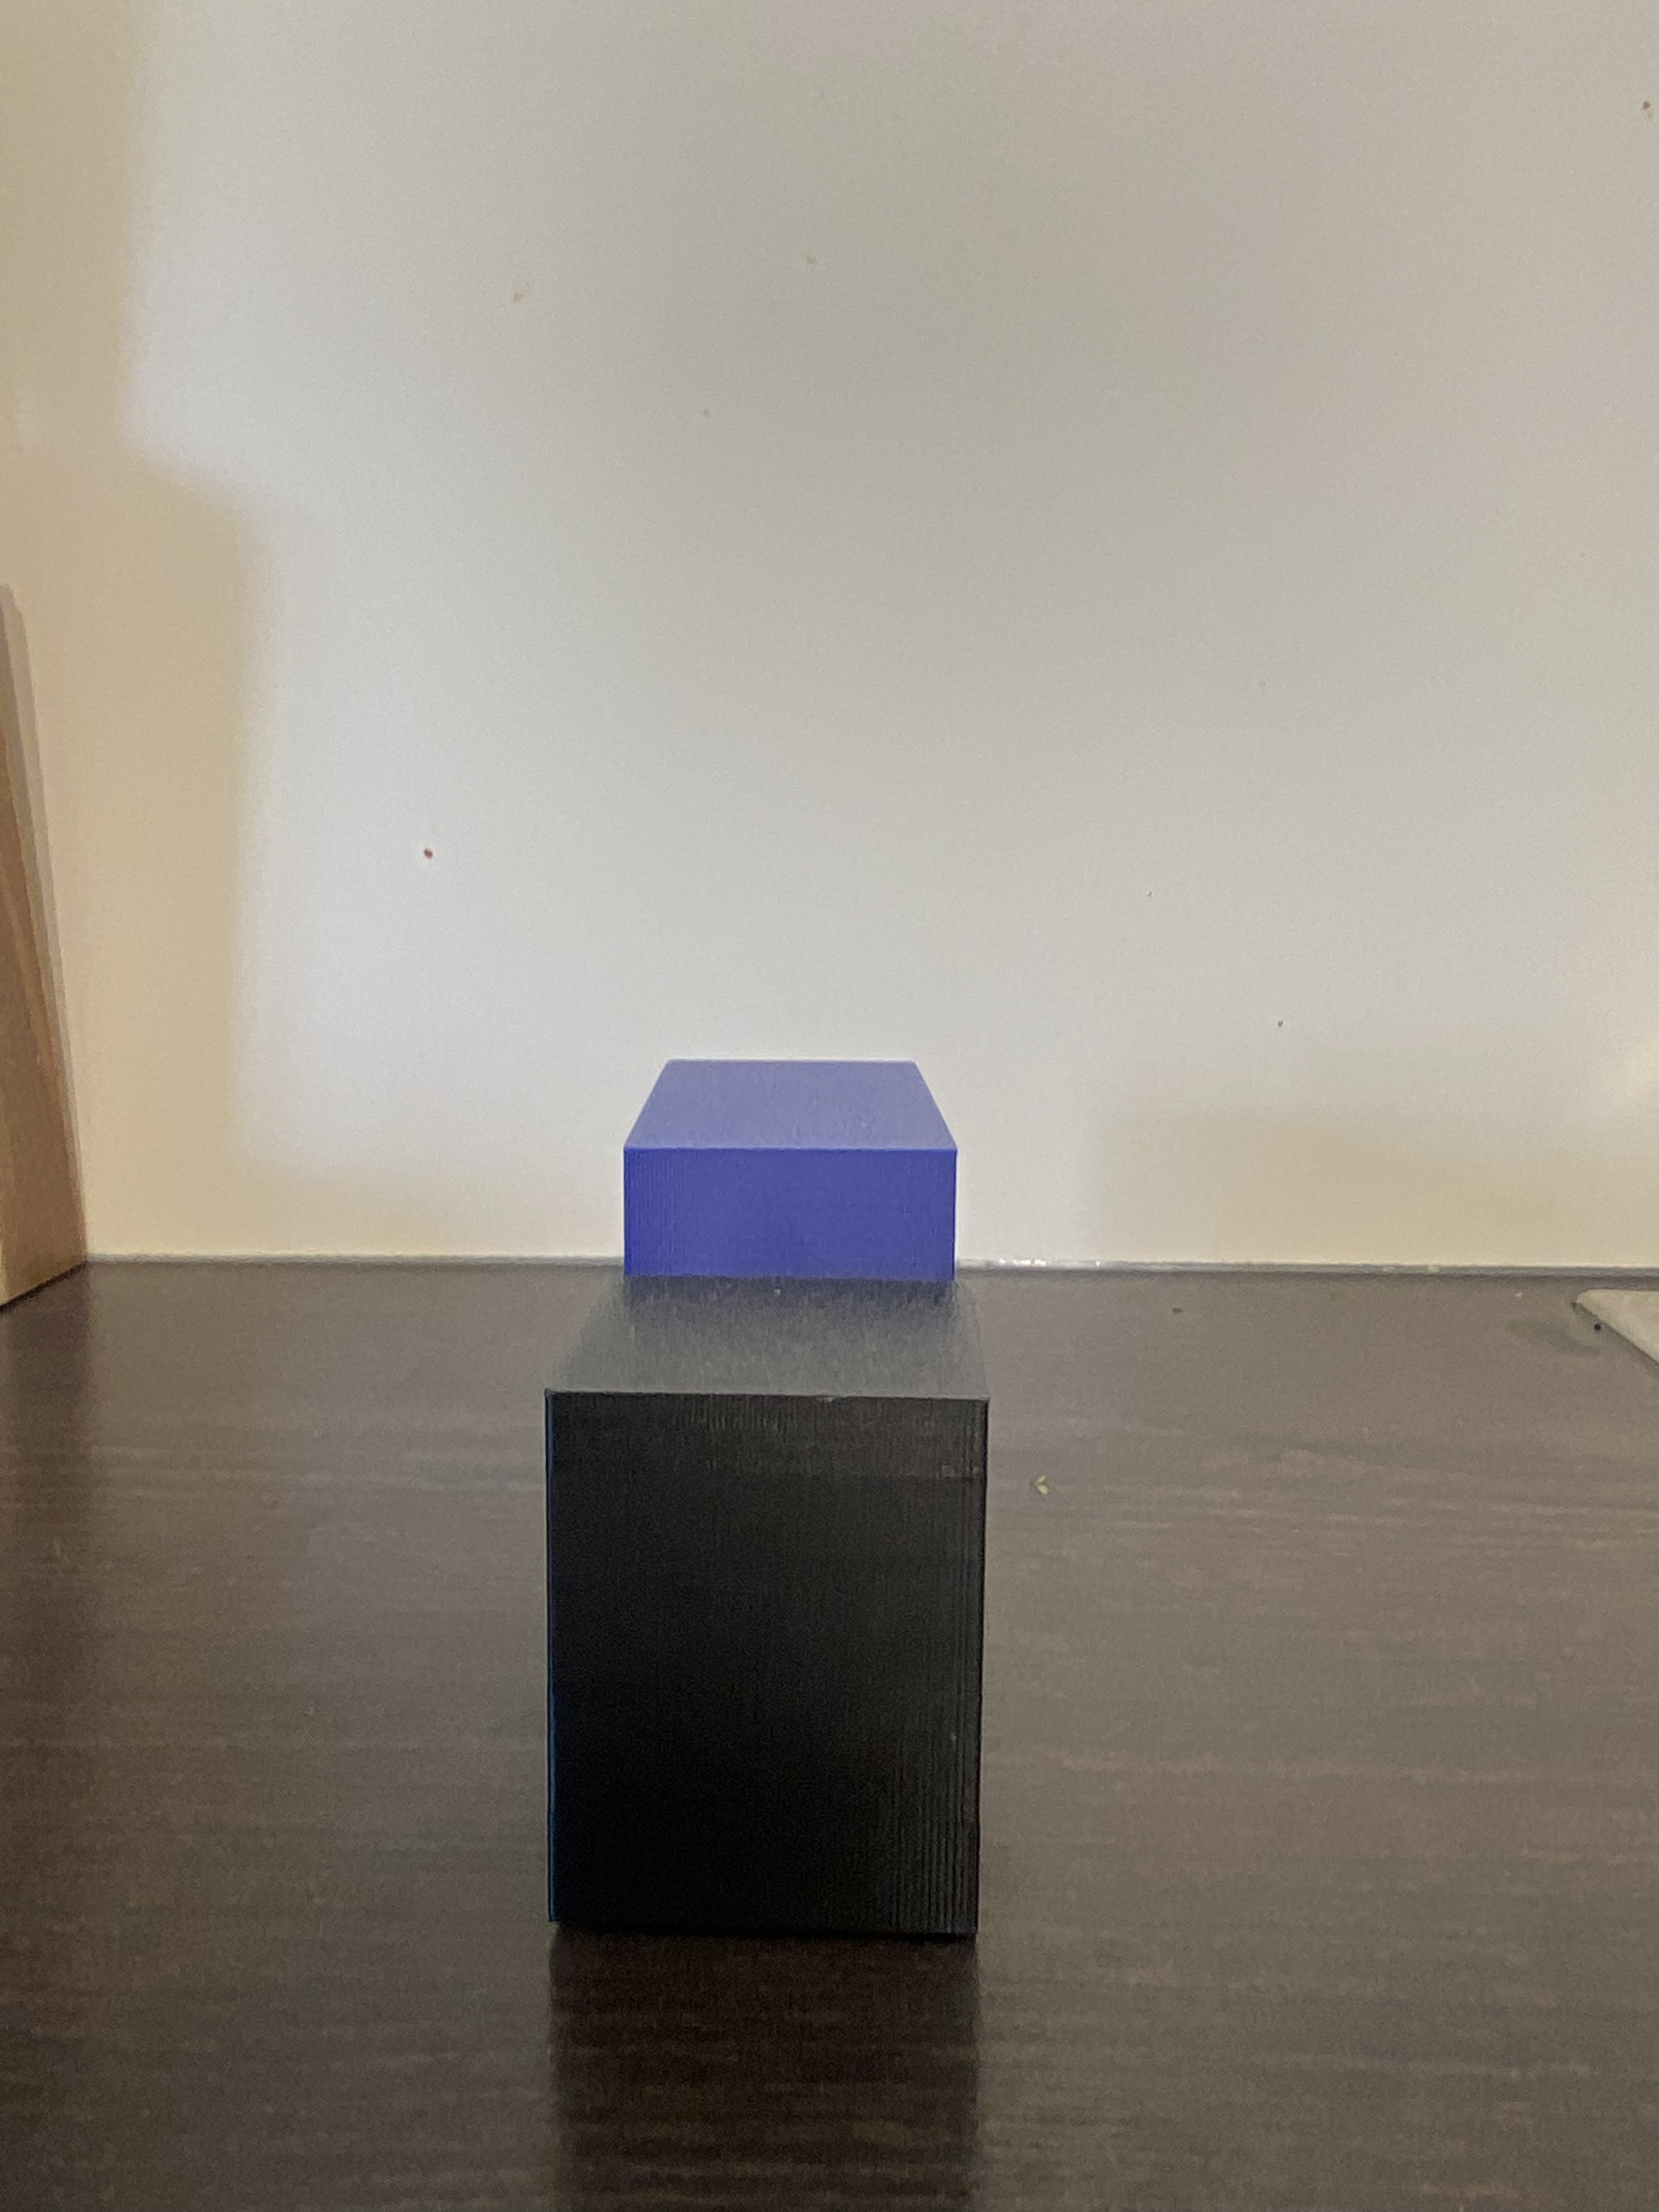blue_truck: (538, 1047, 990, 1940)
